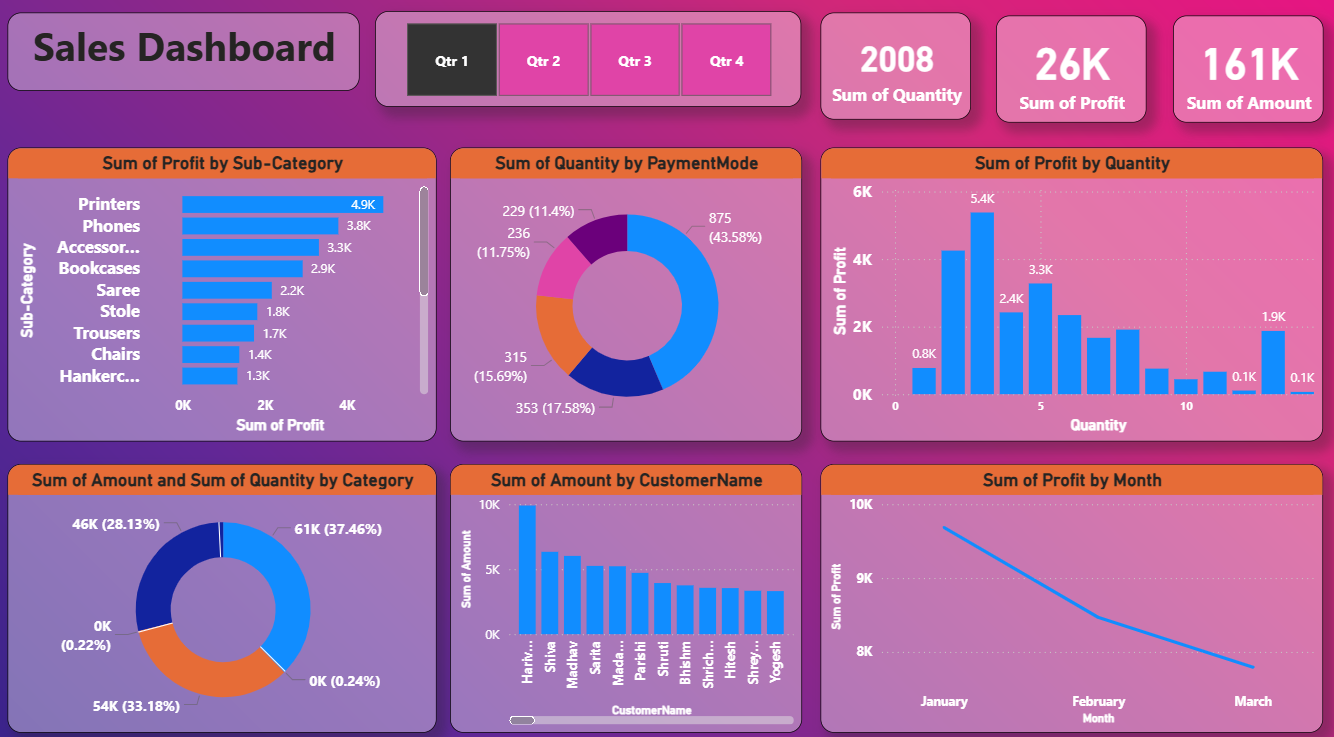

The page's visual inventory and layout, read from the dashboard file:
{"tool":"powerbi","page":{"name":"Page 1","canvas":[1280,720],"ordinal":0},"visuals":[{"type":"textbox","box":[9.5,12.7,335.6,74.8],"z":0},{"type":"card","fields":{"Values":["Details.Quantity"]},"box":[784.3,13.2,143.6,102],"z":1000},{"type":"card","fields":{"Values":["Details.Profit"]},"box":[951,15.2,143,102],"z":2000},{"type":"card","fields":{"Values":["Details.Amount"]},"box":[1120.6,15.1,143,102],"z":3000},{"type":"barChart","fields":{"Category":["Details.Sub-Category"],"Y":["Details.Profit"]},"box":[9.5,141.6,408.8,279.9],"z":4000},{"type":"donutChart","fields":{"Category":["Details.PaymentMode"],"Y":["Details.Quantity"]},"box":[431.1,141.6,335.6,279.9],"z":5000},{"type":"lineStackedColumnComboChart","fields":{"Y":["Details.Profit"],"Category":["Details.Quantity"]},"box":[784.2,141.6,478.8,279.9],"z":6000},{"type":"donutChart","fields":{"Category":["Details.Category"],"Y":["Details.Amount","Details.Quantity"]},"box":[9.5,442.2,408.8,256.1],"z":7000},{"type":"lineStackedColumnComboChart","fields":{"Category":["Orders.CustomerName"],"Y":["Details.Amount"]},"box":[431.1,442.2,335.6,256.1],"z":8000},{"type":"lineChart","fields":{"Y":["Details.Profit"],"Category":["Orders.Order Date.Variation.Date Hierarchy.Month"]},"box":[784.2,442.2,478.8,256.1],"z":9000},{"type":"slicer","fields":{"Values":["Orders.Order Date.Variation.Date Hierarchy.Quarter"]},"box":[360.7,11.4,406.2,91.1],"z":10000}]}

Visuals, with their boxes in screenshot pixels (x1, y1, x2, y2), scaled from the page's 1280x720 canvas onto the 1334x737 screenshot:
textbox: region(10, 13, 360, 90)
card - Details.Quantity: region(817, 14, 967, 118)
card - Details.Profit: region(991, 16, 1140, 120)
card - Details.Amount: region(1168, 15, 1317, 120)
barChart - Details.Sub-Category x Details.Profit: region(10, 145, 436, 431)
donutChart - Details.PaymentMode x Details.Quantity: region(449, 145, 799, 431)
lineStackedColumnComboChart - Details.Profit x Details.Quantity: region(817, 145, 1316, 431)
donutChart - Details.Category x Details.Amount: region(10, 453, 436, 715)
lineStackedColumnComboChart - Orders.CustomerName x Details.Amount: region(449, 453, 799, 715)
lineChart - Details.Profit x Orders.Order Date.Variation.Date Hierarchy.Month: region(817, 453, 1316, 715)
slicer - Orders.Order Date.Variation.Date Hierarchy.Quarter: region(376, 12, 799, 105)
